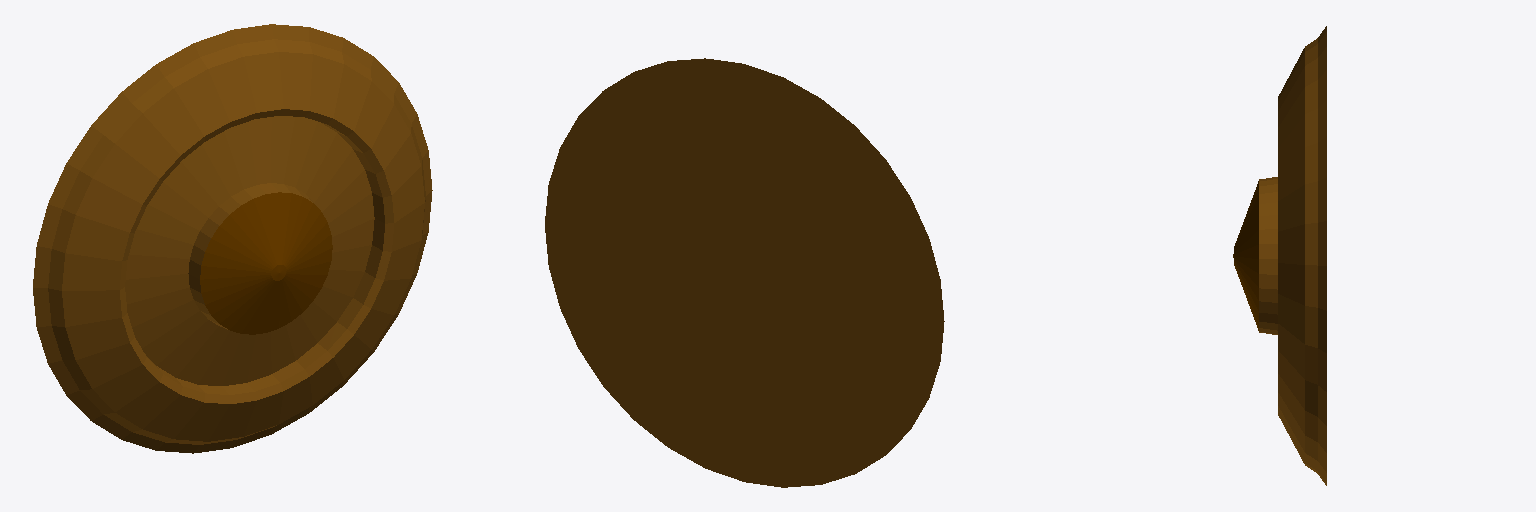
The picture shows the model from 3 angles: view 1: azimuth 30°, elevation 25°; view 2: azimuth 150°, elevation 25°; view 3: azimuth 270°, elevation 25°; orthographic projection.
Visible parts, largest first — view 1: Shield; view 2: Shield; view 3: Shield.
Part boxes in pixels (left/top/right/bottom): Shield: left=33, top=24, right=432, bottom=453; Shield: left=545, top=58, right=944, bottom=487; Shield: left=1233, top=26, right=1326, bottom=485.
Size of the model in its own units: 35.27 by 35.27 by 7.14.
1 materials, 1 textured.